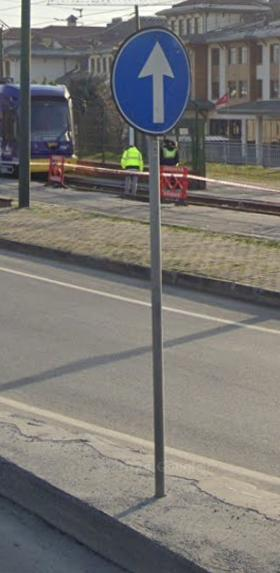forward: (113, 32, 192, 132)
